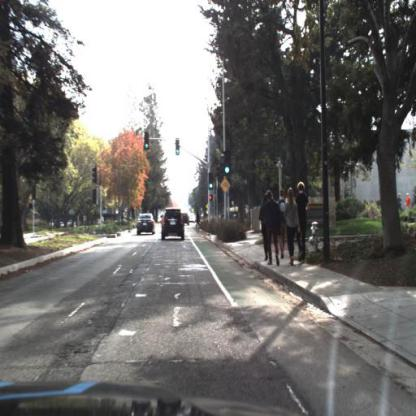biker: (196, 208, 202, 232)
car: (161, 208, 185, 244), (136, 213, 157, 238)
pedestrian: (300, 177, 312, 262), (267, 188, 279, 269), (288, 177, 297, 265), (280, 185, 286, 265), (260, 191, 266, 263)
trafficLight-Green: (227, 154, 232, 177), (144, 133, 150, 150), (209, 174, 214, 191), (176, 141, 181, 157)
